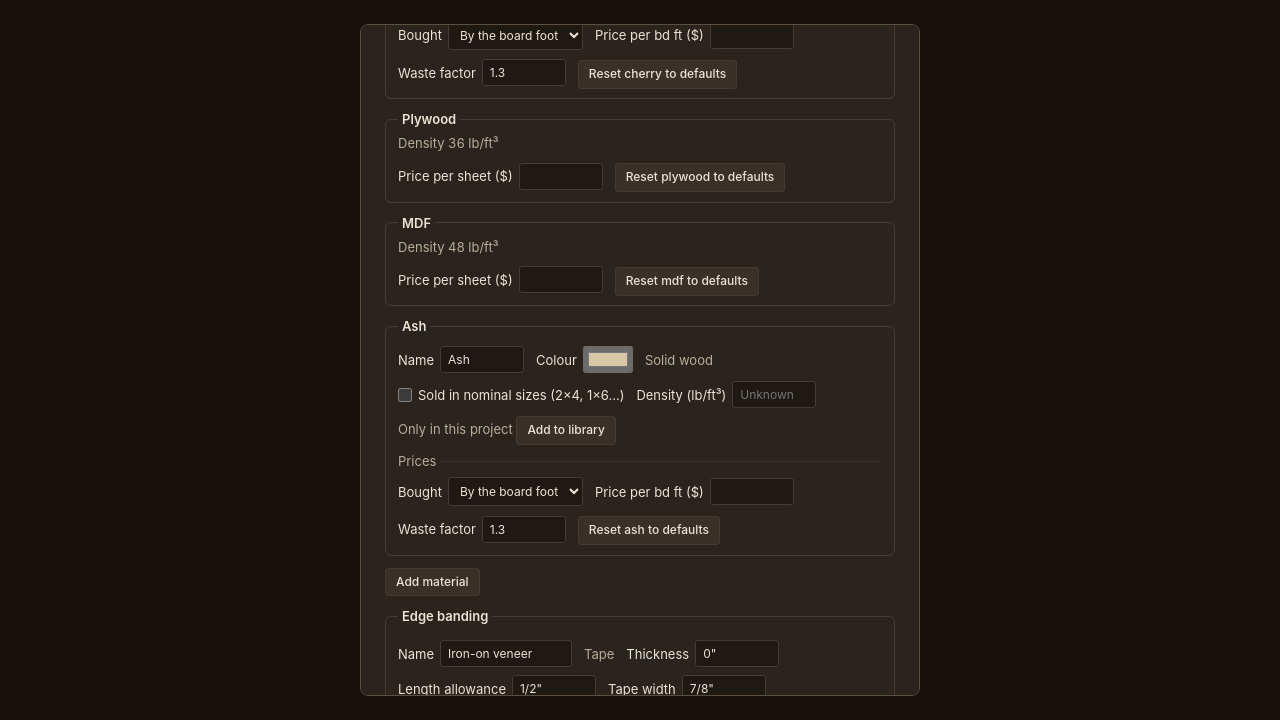
Scenario: MaterialsDialog — definitions (custom materials spec §4.1) › stays open and shows the message when the save reports a failure
(page scrolled)
Replace the text in the field named "Ash: name" with "White ash" at point(482, 360), box x1=440 y1=346 x2=524 y2=373
(page scrolled)
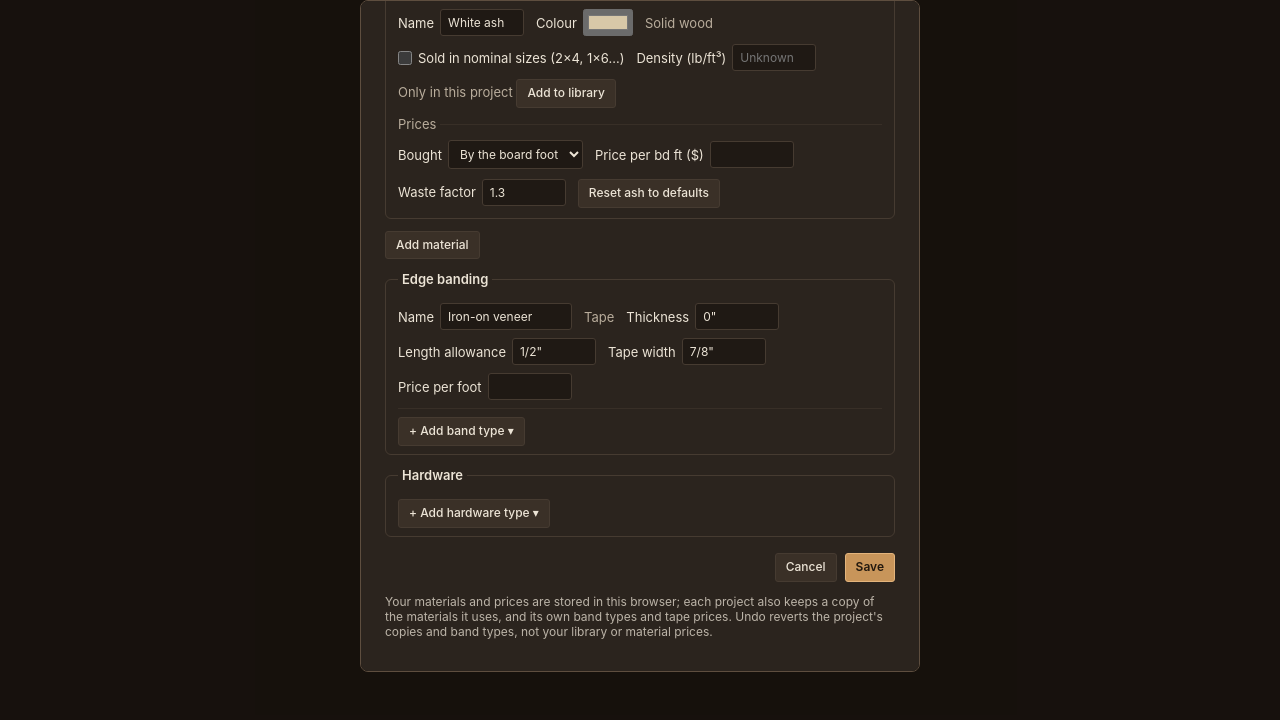
Click the button "Save" at point(870, 567), box x1=845 y1=553 x2=895 y2=582
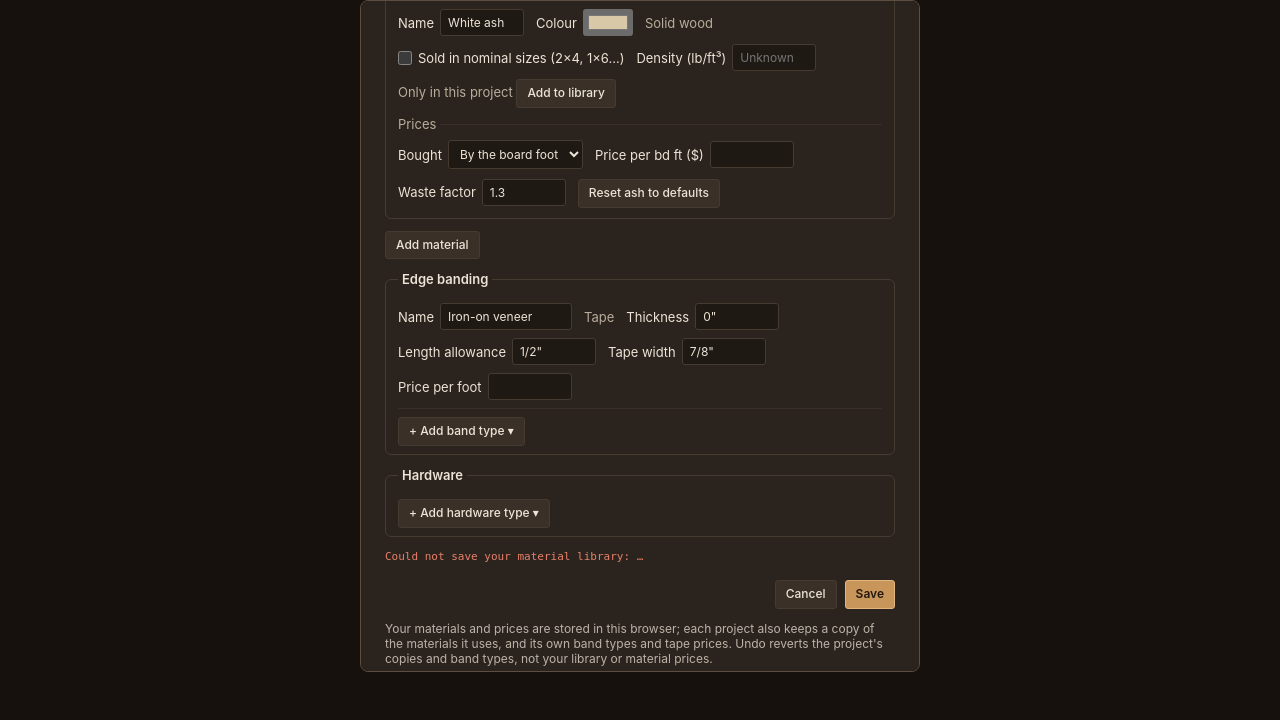
Result: the text "Could not save your material library: …" is shown at x1=385 y1=550 x2=643 y2=563
